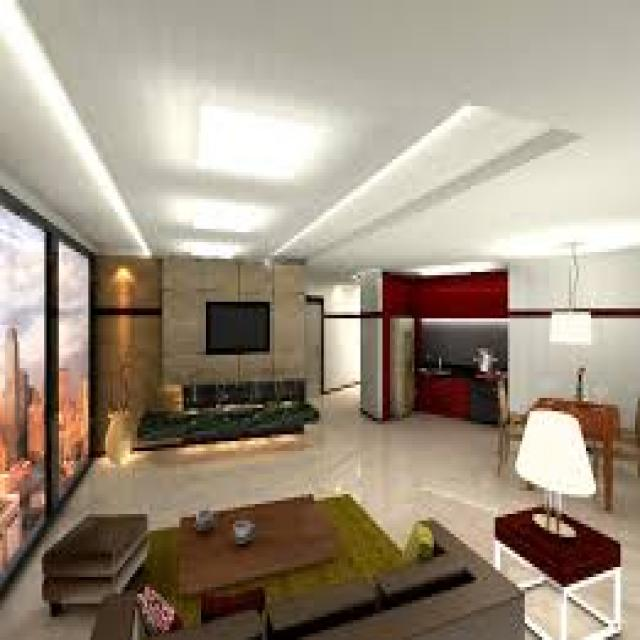Sofa: (81, 522, 524, 640)
Table: (172, 492, 337, 595)
tv: (205, 301, 273, 355)
window: (0, 195, 94, 495)
